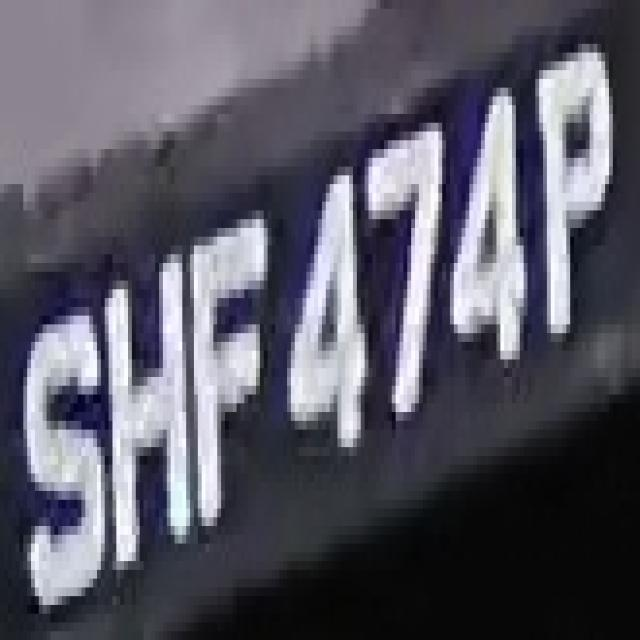4: (276, 176, 376, 474), (446, 70, 539, 368)
7: (361, 114, 450, 430)
F: (190, 202, 272, 534)
H: (97, 263, 190, 579)
P: (543, 18, 625, 368)
S: (20, 289, 109, 605)
